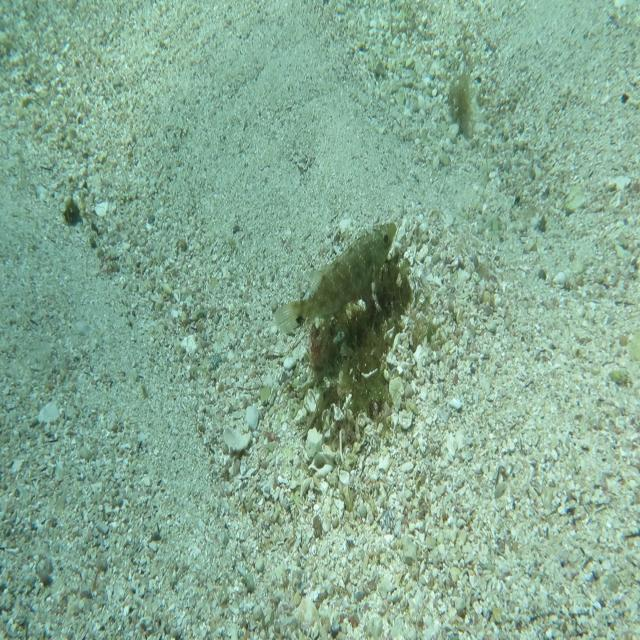FAN: (274, 220, 398, 340)
core_nest: (363, 289, 401, 325)
nest: (288, 246, 418, 455)
vegetation: (447, 71, 477, 138), (59, 196, 81, 228)
